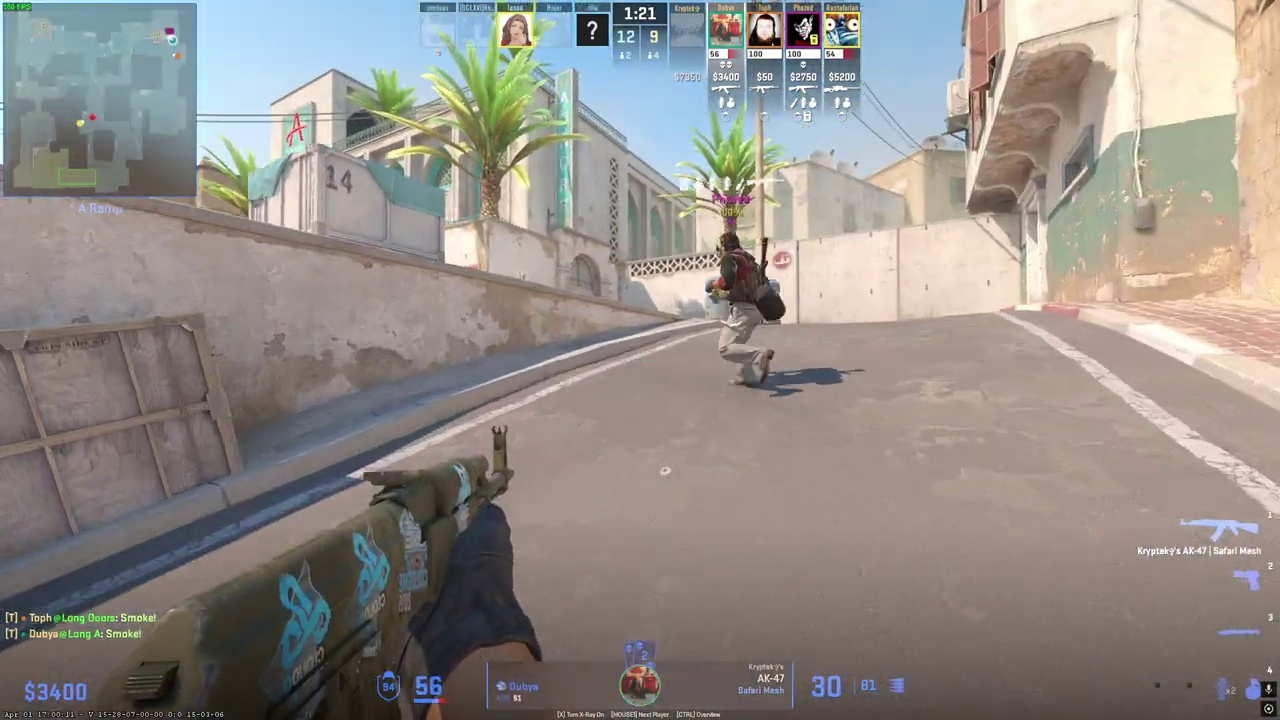Terrorist: (705, 231, 780, 388)
